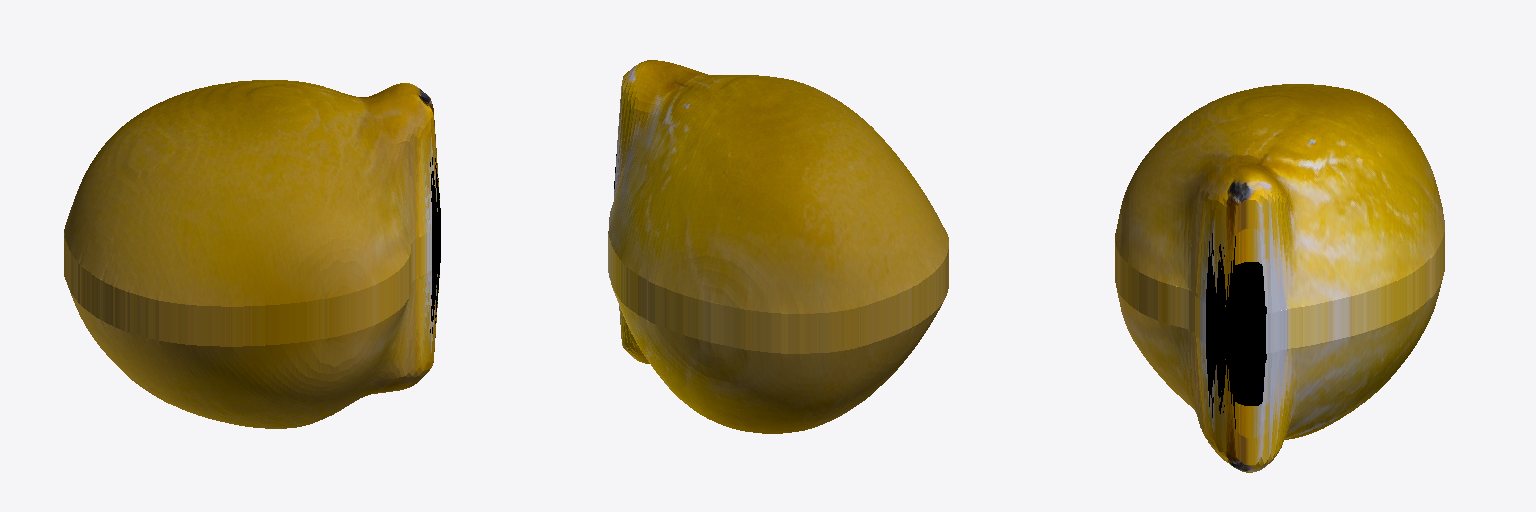
3 renders of one model, left to right at view 1: azimuth 30°, elevation 25°; view 2: azimuth 150°, elevation 25°; view 3: azimuth 270°, elevation 25°, orthographic.
Parts seen in each view (by area): view 1: Grid; view 2: Grid; view 3: Grid.
Boxes of the visible parts, box(x1,y1,x2,y2) form: Grid: box(64, 80, 440, 428); Grid: box(608, 60, 948, 433); Grid: box(1115, 84, 1444, 472).
Bounding box in the file's own units: 1.71 × 1.6 × 1.5.
1 materials, 1 textured.